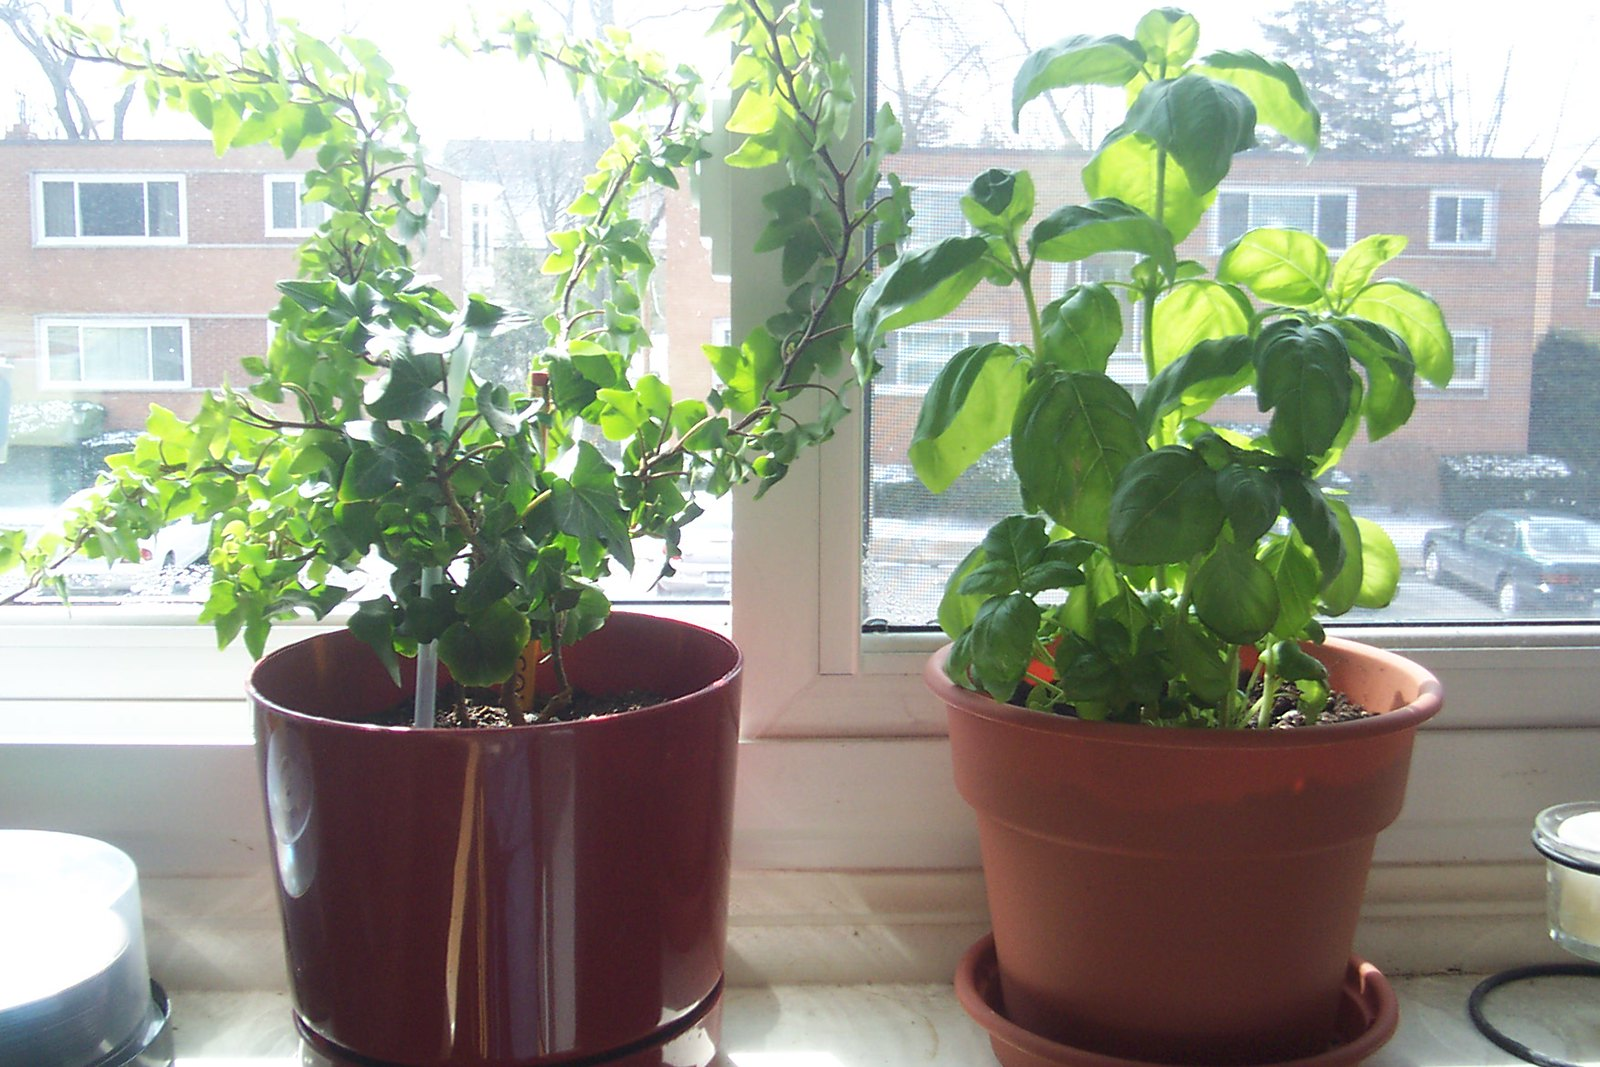potted plant: (921, 32, 1449, 1063), (232, 112, 756, 1067)
